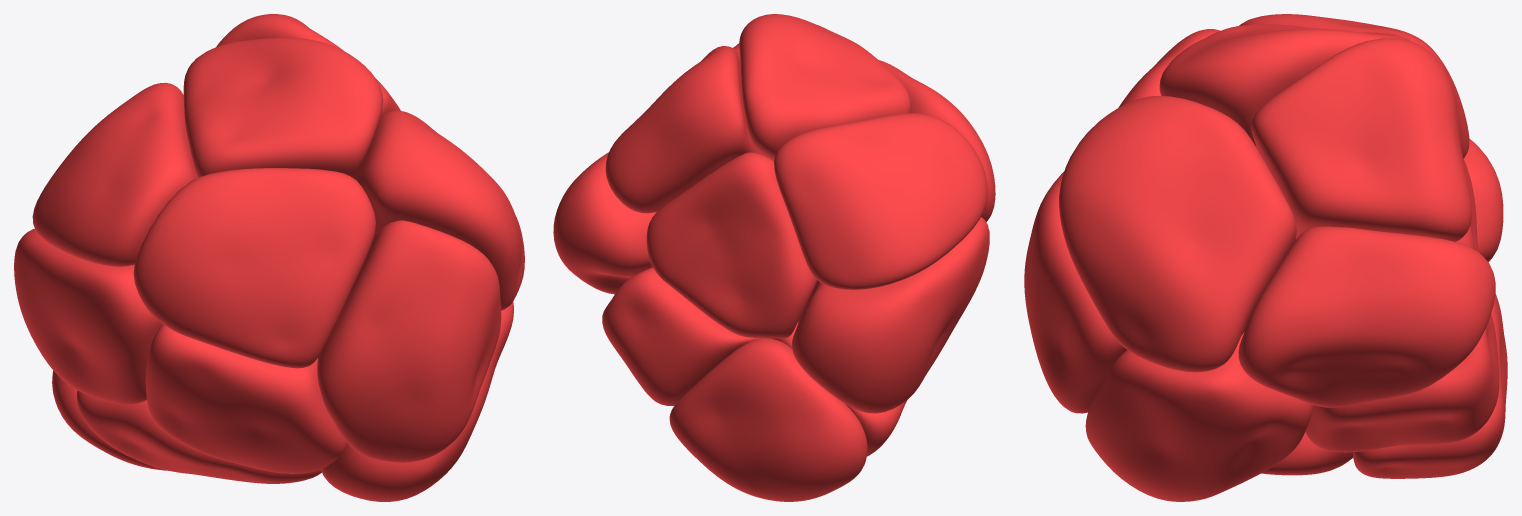
3 renders of one model, left to right at view 1: azimuth 30°, elevation 25°; view 2: azimuth 150°, elevation 25°; view 3: azimuth 270°, elevation 25°, orthographic. The views are drawn at different scales.
Parts seen in each view (by area): view 1: a3.002, a3.004, a3.010, a3.008, a3.003, a3.011, a3.012, a3.007, a3.013, a3.009, a3.014; view 2: a3.003, a3.014, a3.006, a3.011, a3.010, a3.009, a3.001, a3.005, a3.002, a3.007; view 3: a3.012, a3.005, a3.009, a3.013, a3.010, a3.004, a3.001, a3.014, a3.011, a3.003, a3.007, a3.002 (+1 smaller).
Part boxes in pixels (left/top/right/bottom): a3.002: left=133, top=168, right=375, bottom=368; a3.004: left=317, top=220, right=501, bottom=462; a3.010: left=183, top=37, right=383, bottom=177; a3.008: left=145, top=324, right=346, bottom=473; a3.003: left=32, top=82, right=197, bottom=266; a3.011: left=14, top=228, right=162, bottom=404; a3.012: left=352, top=110, right=524, bottom=310; a3.007: left=77, top=390, right=321, bottom=483; a3.013: left=320, top=302, right=513, bottom=501; a3.009: left=216, top=14, right=400, bottom=115; a3.014: left=52, top=370, right=168, bottom=470; a3.003: left=774, top=113, right=987, bottom=289; a3.014: left=669, top=338, right=867, bottom=501; a3.006: left=646, top=152, right=817, bottom=338; a3.011: left=792, top=217, right=989, bottom=413; a3.010: left=739, top=14, right=910, bottom=160; a3.009: left=605, top=46, right=759, bottom=213; a3.001: left=602, top=267, right=769, bottom=405; a3.005: left=553, top=152, right=656, bottom=294; a3.002: left=879, top=60, right=995, bottom=222; a3.007: left=771, top=321, right=907, bottom=456; a3.012: left=1059, top=96, right=1296, bottom=372; a3.005: left=1238, top=226, right=1495, bottom=407; a3.009: left=1251, top=38, right=1471, bottom=241; a3.013: left=1085, top=332, right=1313, bottom=501; a3.010: left=1159, top=24, right=1410, bottom=146; a3.004: left=1024, top=171, right=1126, bottom=413; a3.001: left=1305, top=314, right=1499, bottom=452; a3.014: left=1353, top=294, right=1507, bottom=478; a3.011: left=1464, top=138, right=1503, bottom=262; a3.003: left=1239, top=14, right=1469, bottom=158; a3.007: left=1261, top=432, right=1353, bottom=475; a3.002: left=1118, top=29, right=1220, bottom=107.
Bounding box in the file's own units: 402 × 415 × 381.
